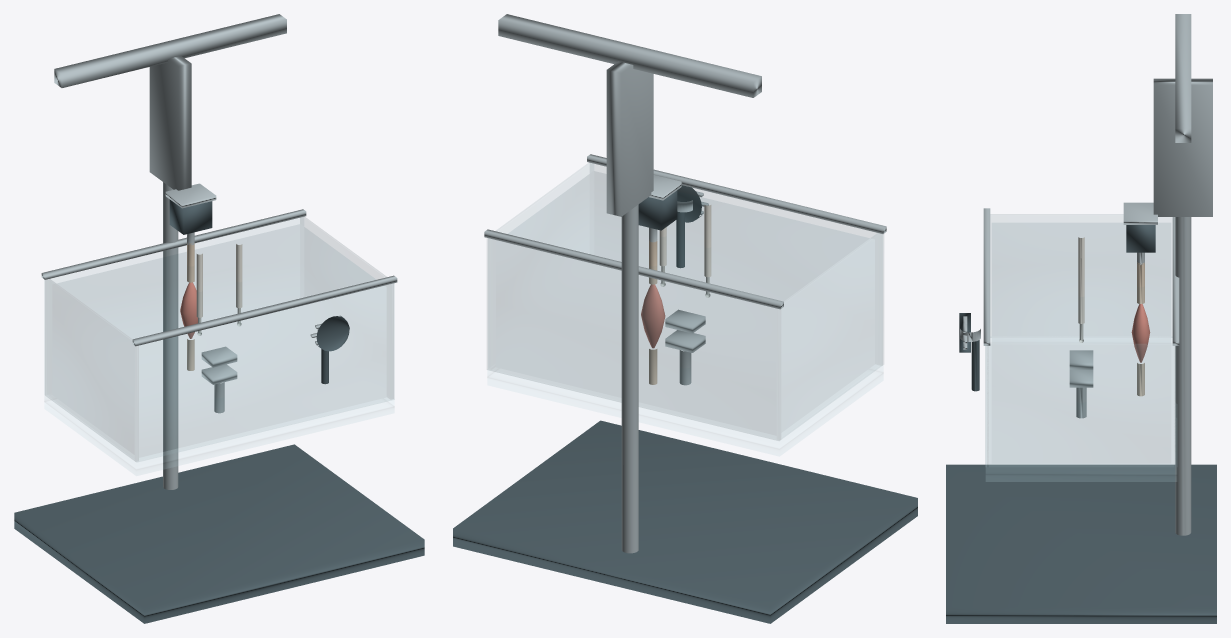
File: myograph.glb
3 renders of one model, left to right at view 1: azimuth 30°, elevation 25°; view 2: azimuth 150°, elevation 25°; view 3: azimuth 270°, elevation 25°, orthographic. The views are drawn at different scales.
Visible parts, largest first — view 1: Stand, BathFront, BathRear, BathLeft, BathBase, TransducerBracket, StandArm, StandPost, BathRight, BathRimFront, BathRimRear, TransducerBody (+3 smaller); view 2: Stand, BathRear, BathFront, BathLeft, BathBase, TransducerBracket, StandArm, StandPost, BathRight, BathRimRear, BathRimFront, TransducerBody (+3 smaller); view 3: Stand, BathRight, BathLeft, TransducerBracket, StandPost, BathBase, StandArm, BathRimFront, TransducerBody, BathRimRear, TransducerCap, Muscle (+4 smaller).
Part boxes in pixels (bbox=[...]): Stand: bbox=[14, 444, 424, 623]; BathFront: bbox=[135, 283, 394, 461]; BathRear: bbox=[44, 217, 303, 395]; BathLeft: bbox=[45, 279, 138, 461]; BathBase: bbox=[45, 395, 393, 475]; TransducerBracket: bbox=[149, 56, 191, 190]; StandArm: bbox=[54, 14, 286, 87]; StandPost: bbox=[163, 182, 178, 489]; BathRight: bbox=[300, 217, 393, 398]; BathRimFront: bbox=[132, 275, 397, 346]; BathRimRear: bbox=[41, 209, 306, 279]; TransducerBody: bbox=[169, 199, 212, 234]; Stand: bbox=[453, 420, 917, 623]; BathRear: bbox=[487, 238, 780, 440]; BathFront: bbox=[590, 163, 883, 365]; BathLeft: bbox=[777, 233, 882, 439]; BathBase: bbox=[488, 365, 882, 455]; TransducerBracket: bbox=[606, 61, 653, 216]; StandArm: bbox=[498, 14, 761, 97]; StandPost: bbox=[621, 204, 638, 553]; BathRight: bbox=[488, 163, 593, 369]; BathRimRear: bbox=[484, 229, 783, 309]; BathRimFront: bbox=[587, 154, 886, 233]; TransducerBody: bbox=[638, 190, 677, 230]; Stand: bbox=[946, 464, 1216, 623]; BathRight: bbox=[987, 344, 1175, 466]; BathLeft: bbox=[991, 214, 1171, 337]; TransducerBracket: bbox=[1153, 78, 1212, 216]; StandPost: bbox=[1175, 217, 1191, 535]; BathBase: bbox=[986, 338, 1176, 481]; StandArm: bbox=[1175, 14, 1191, 142]; BathRimFront: bbox=[983, 208, 990, 345]; TransducerBody: bbox=[1126, 225, 1155, 252]; BathRimRear: bbox=[1172, 217, 1179, 345]; TransducerCap: bbox=[1123, 202, 1157, 224]; Muscle: bbox=[1131, 304, 1150, 362].
Size of the model in its own units: 0.255 by 0.402 by 0.205.
